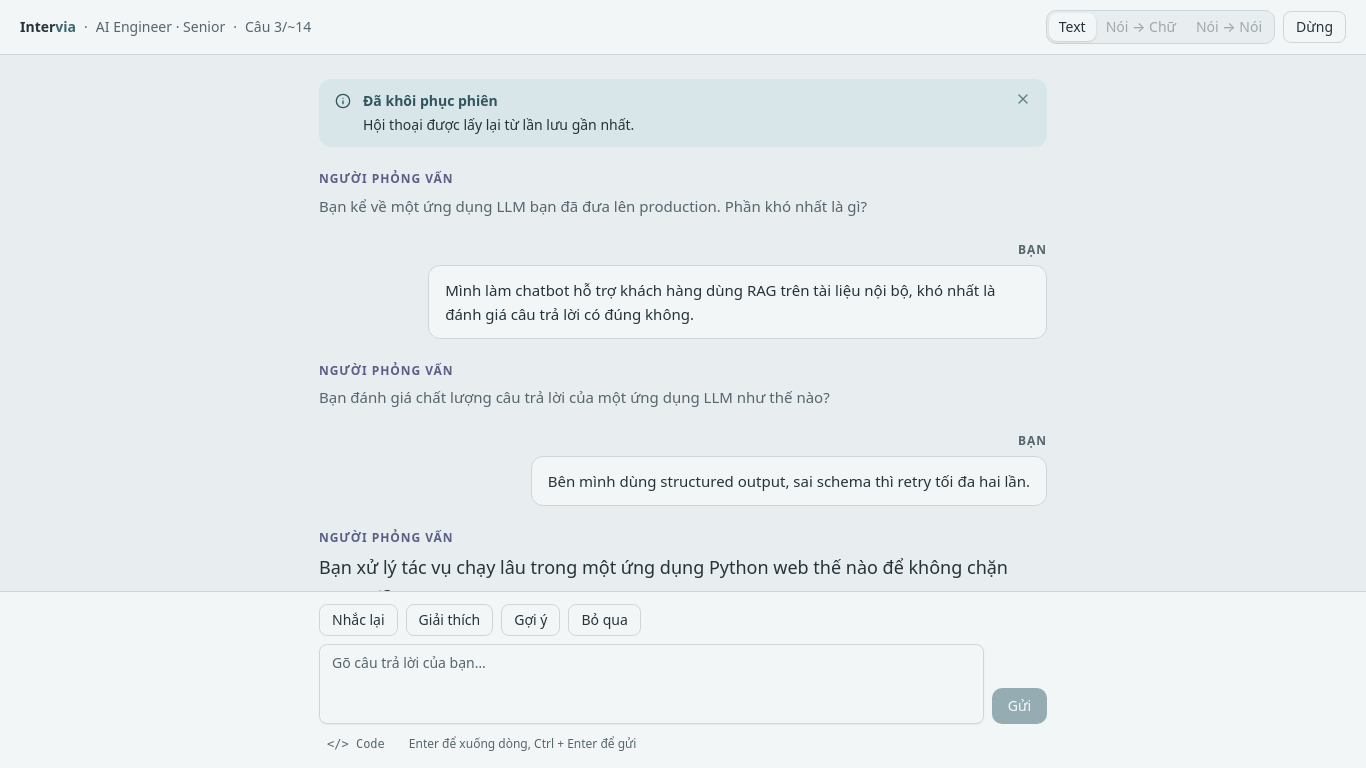
Progress, stop, end (UI-6.4) › stops, then shows the summary instead of the bottom bar
expect the text "RAG trên tài liệu nội bộ" is shown: met, box [445,280,999,324]
Click the button "Dừng" at (1315, 27), box [1283,11,1346,43]
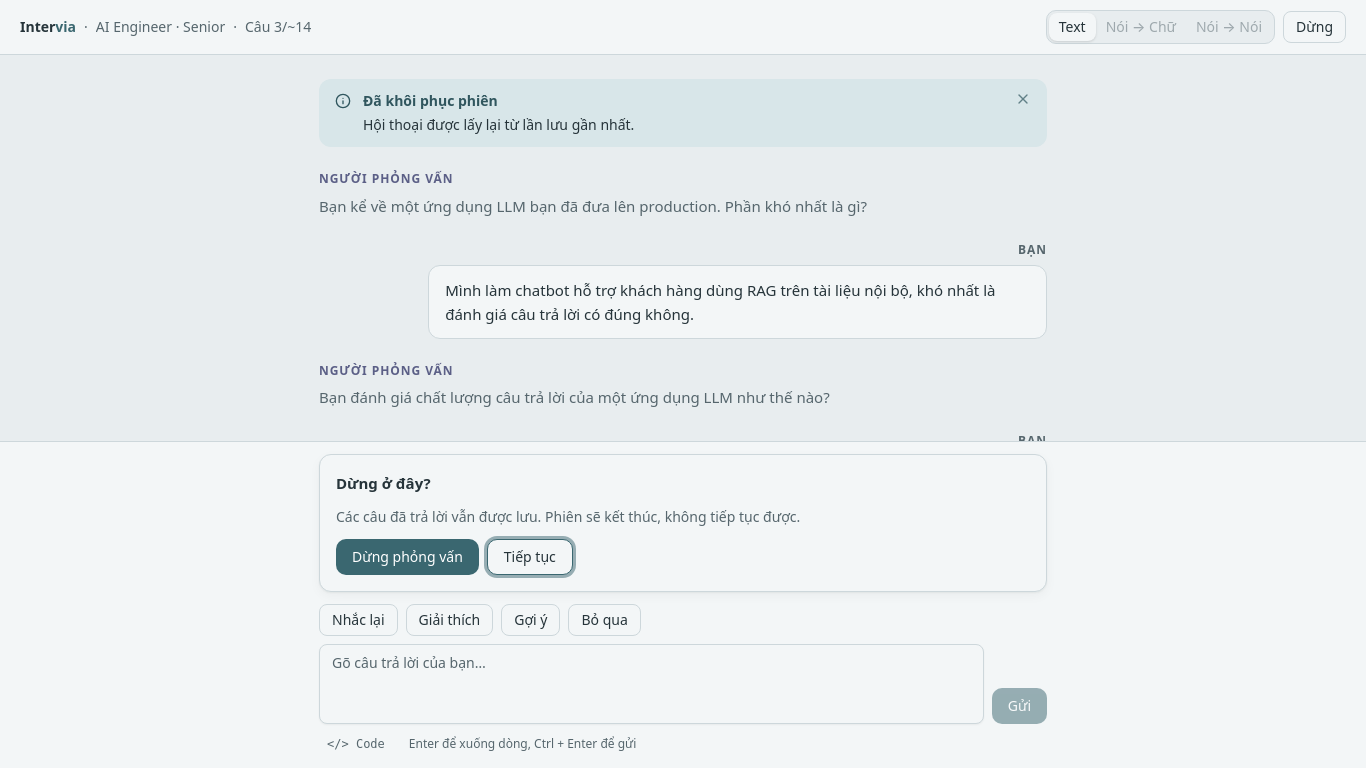
Click the button "Dừng phỏng vấn" at (407, 557), box [336,539,479,575]
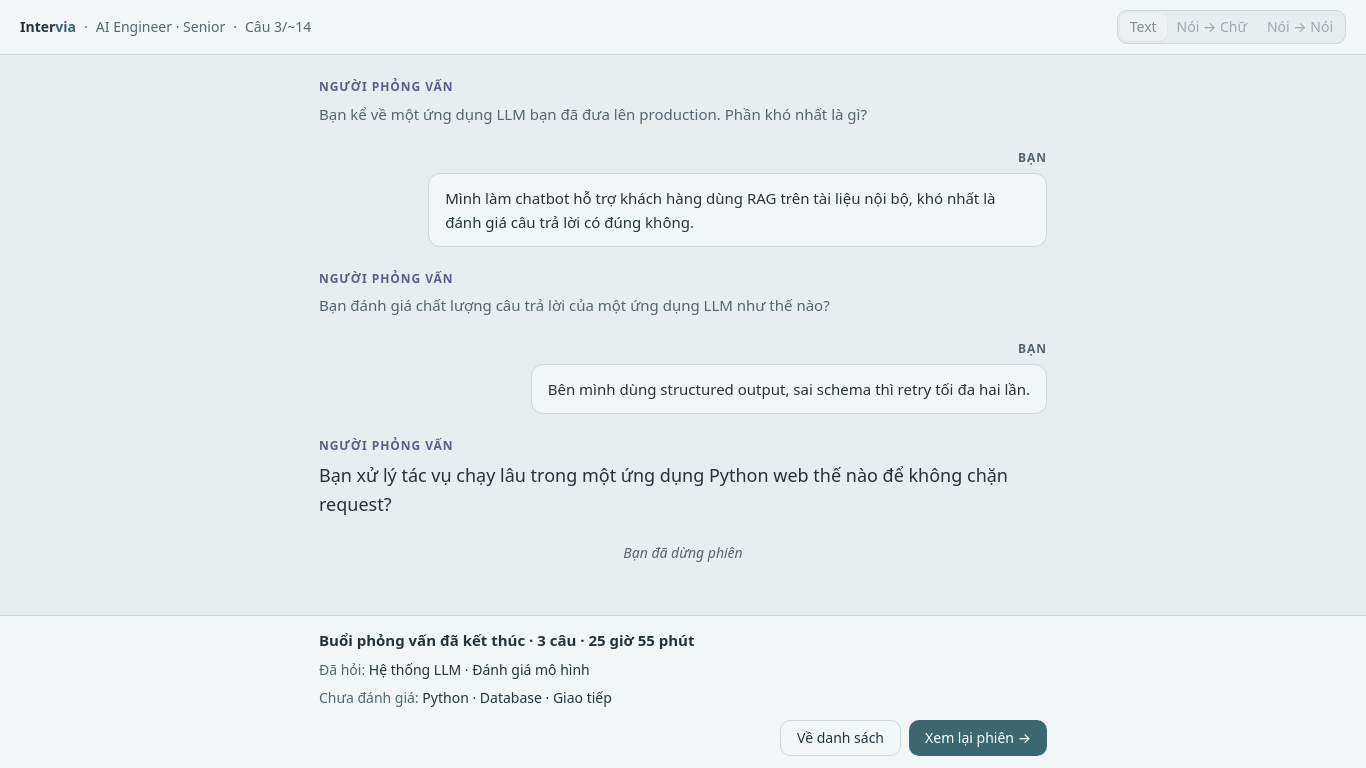
expect the element "Buổi phỏng vấn đã kết thúc" shows "3 câu": met, box [319,628,1047,756]
expect the text "Bạn đã dừng phiên" is shown: met, box [623,543,743,562]
